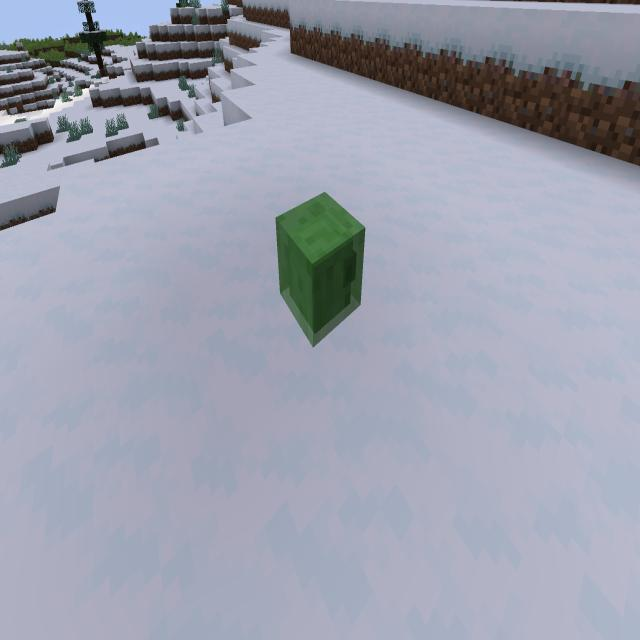Slime: (268, 179, 368, 371)
